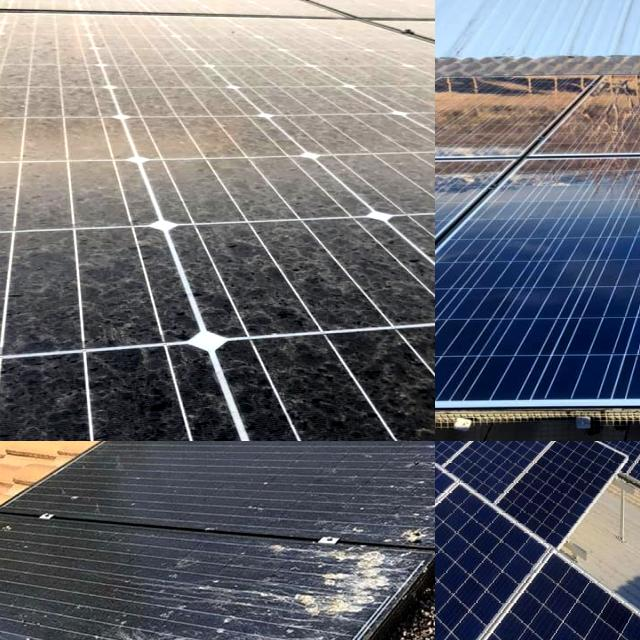bird: (293, 514, 387, 625), (19, 485, 76, 552), (403, 496, 435, 556)
crack: (435, 142, 640, 441), (435, 453, 577, 640), (435, 441, 564, 640), (483, 441, 629, 575), (435, 556, 640, 640), (527, 70, 640, 166), (449, 441, 565, 528)
dust: (0, 218, 204, 358), (237, 212, 435, 338), (176, 15, 431, 106), (222, 339, 435, 441), (186, 111, 435, 196), (0, 340, 206, 441), (0, 110, 170, 214), (0, 4, 150, 101), (0, 0, 250, 19)
